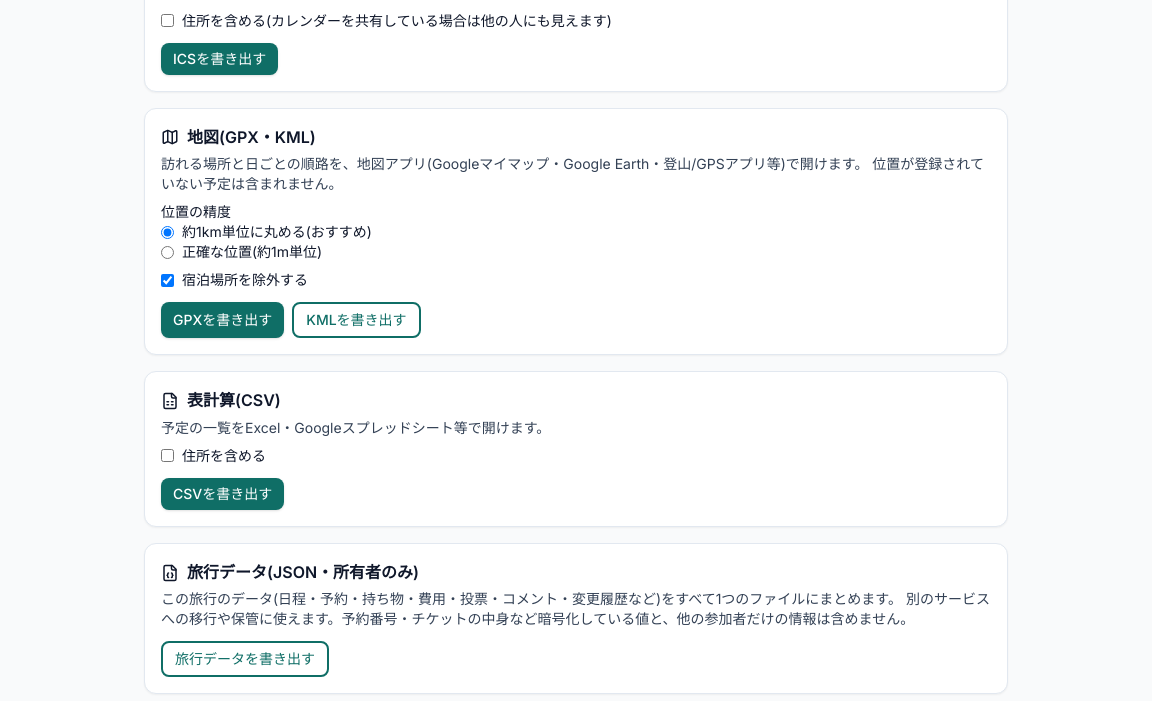
Test: ExportsPage (Gate P5) › 失敗したらエラーを表示する
The image size is (1152, 701).
(page scrolled)
Click the button "CSVを書き出す" at (223, 494), box top-left (161, 478), bottom-right (284, 510)
(page scrolled)
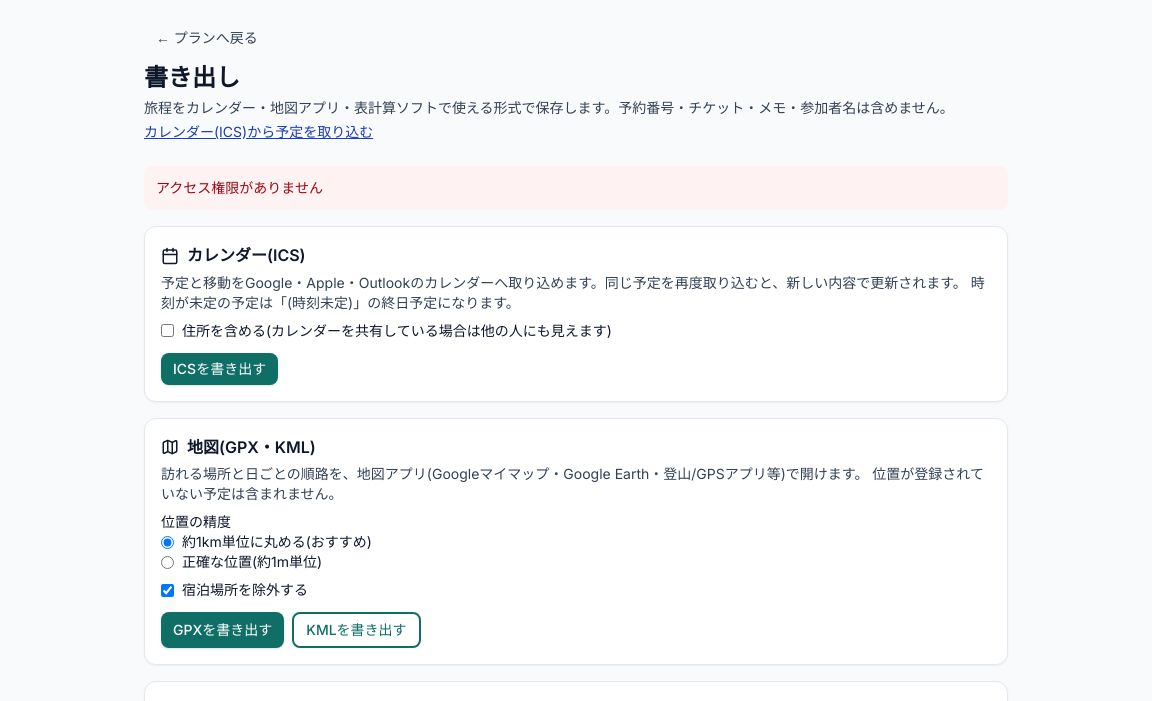
Expected: the message reads "アクセス権限がありません", top-left (156, 179), bottom-right (323, 196)
